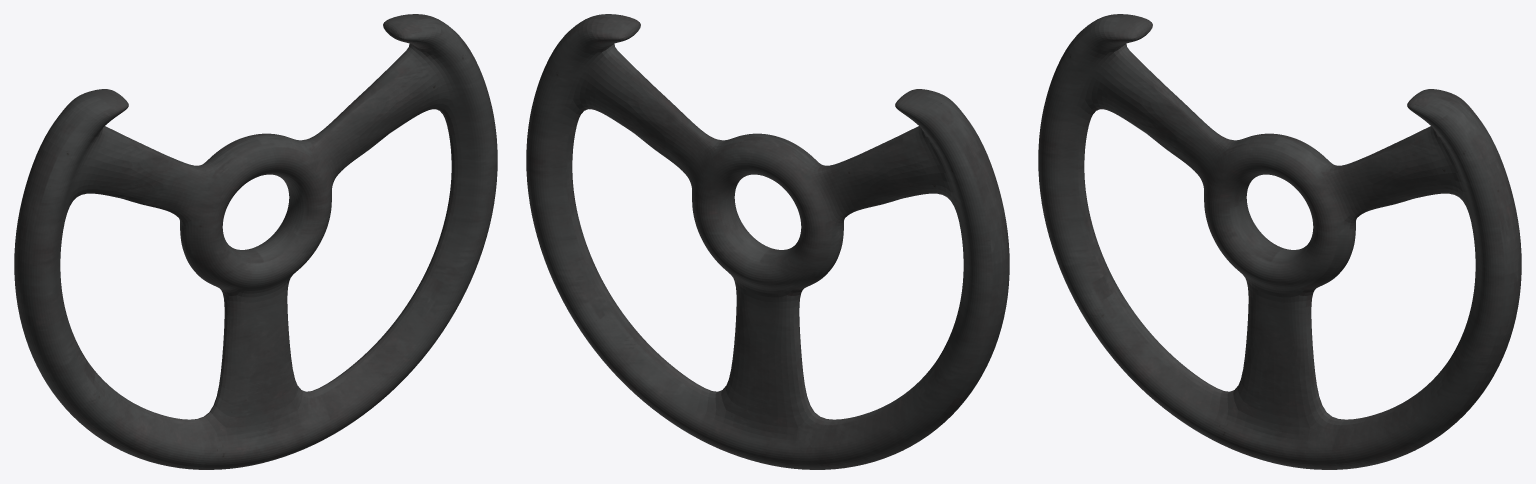
The model's file is steeringwheelwheel.fbx.
The picture shows the model from 3 angles, left to right: view 1: azimuth 30°, elevation 25°; view 2: azimuth 150°, elevation 25°; view 3: azimuth 330°, elevation 25°; orthographic projection.
Visible parts, largest first — view 1: steeringwheel stand.002; view 2: steeringwheel stand.002; view 3: steeringwheel stand.002.
Boxes of the visible parts, x1,y1,x2,y2 form: steeringwheel stand.002: (14, 14, 497, 469); steeringwheel stand.002: (526, 14, 1009, 469); steeringwheel stand.002: (1038, 14, 1521, 469).
Bounding box in the file's own units: 298 × 242 × 28.36.
Materials: 1 (1 with a texture image).
